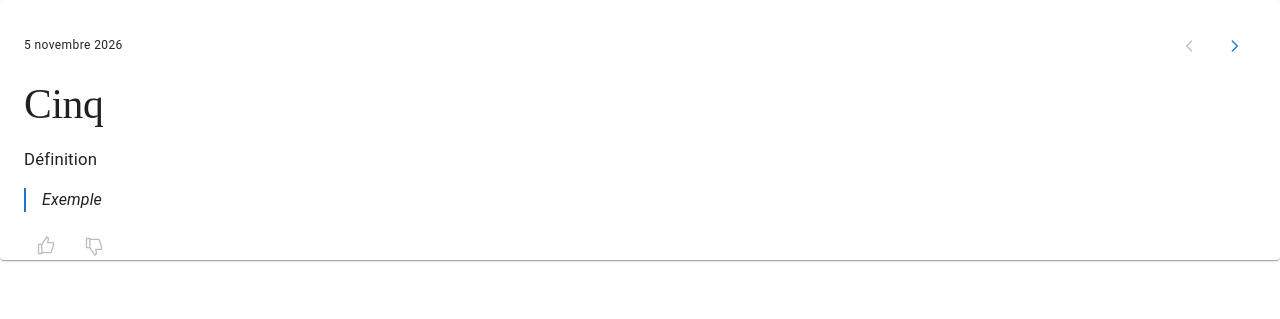
exclut les cartes récentes, revient à la précédente et conserve un lot sans nouvel appel
Later steps or results of the test are not shown.
Click the button named "Autre découverte" at (1234, 46), box [1212,24,1256,68]
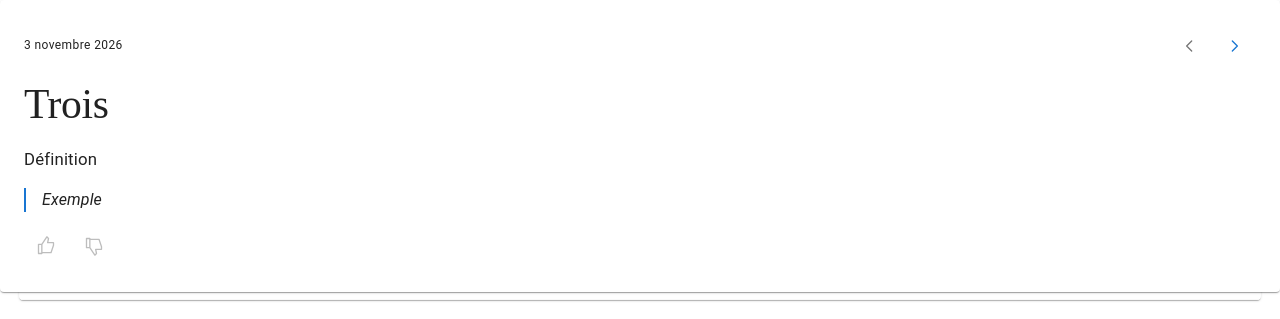
Check: the heading "Trois" is shown, box [24,81,109,127]
Click the button named "Découverte précédente" at (1190, 46), box [1168,24,1212,68]
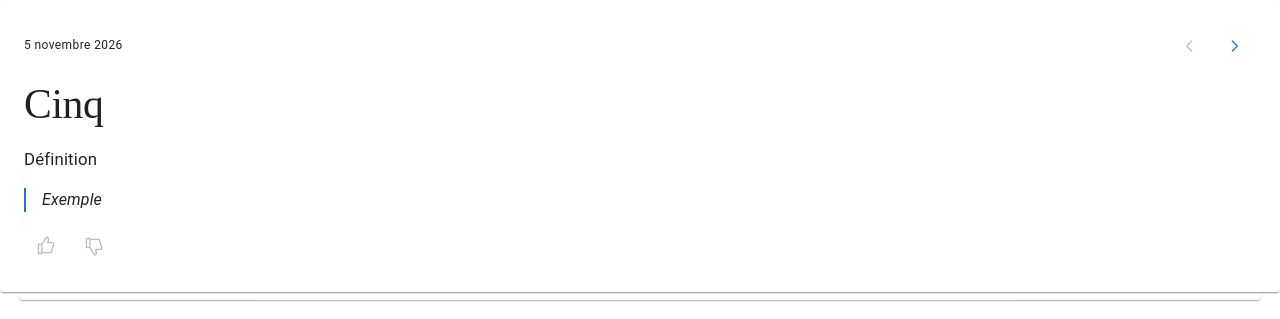
Check: the heading "Cinq" is shown, box [24,81,104,127]
Press ArrowRight in the element named "Carte découverte. Flèche droite : autre découverte. Flèche g"
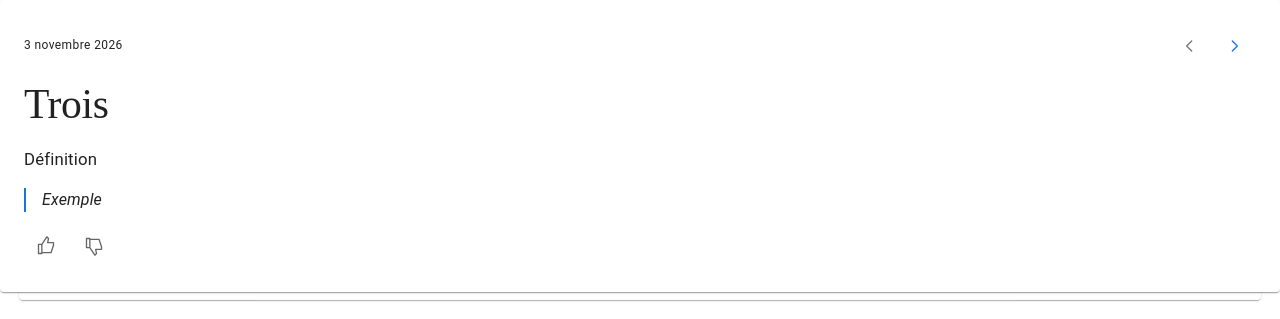
Check: the heading "Trois" is shown, box [24,81,109,127]
